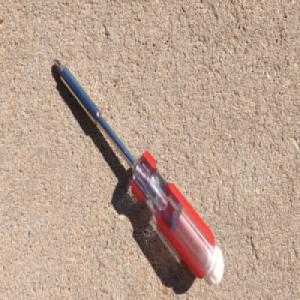Screwdriver: (52, 54, 225, 288)
